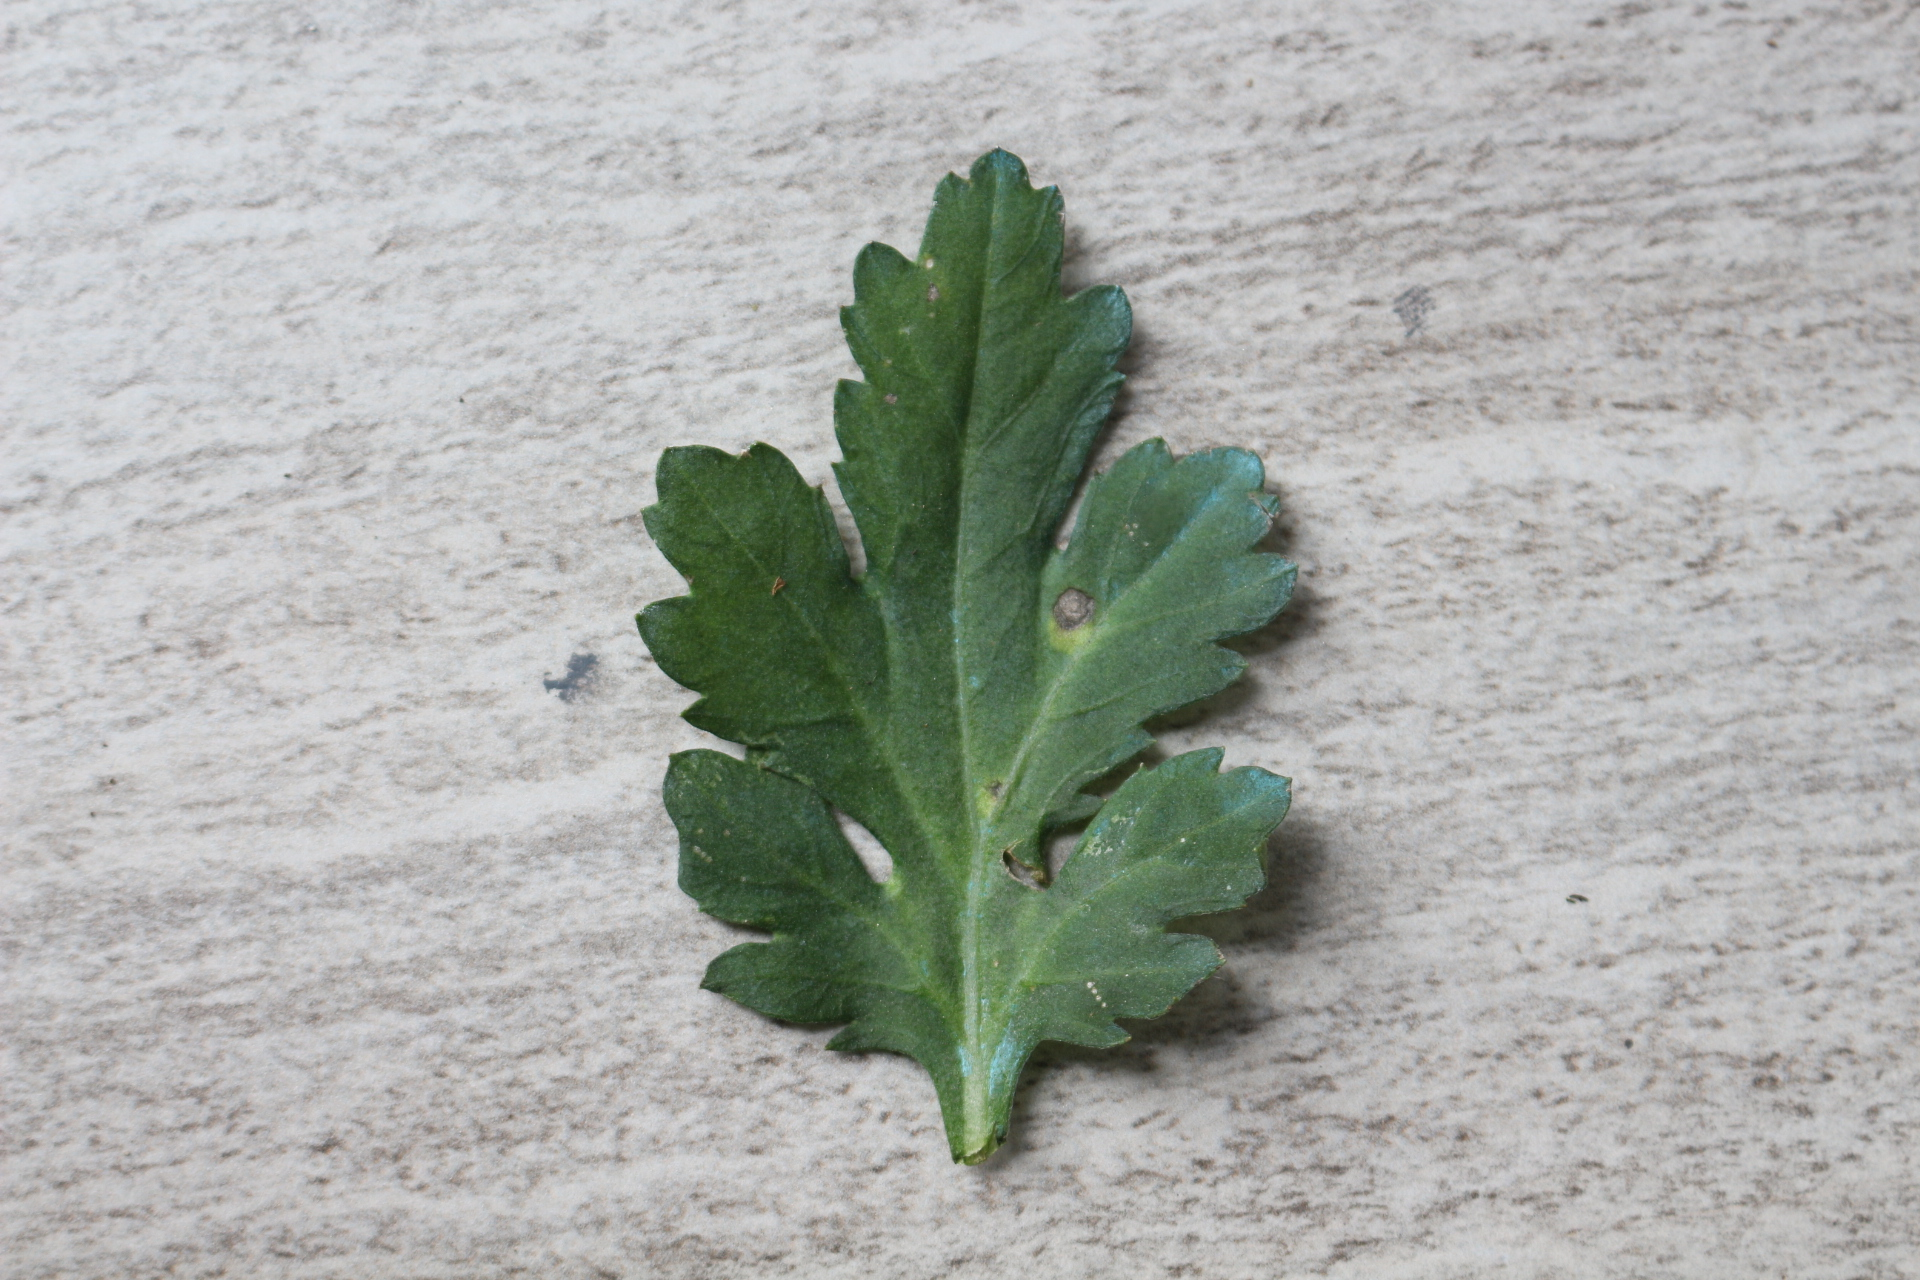namden: (1049, 581, 1096, 639)
